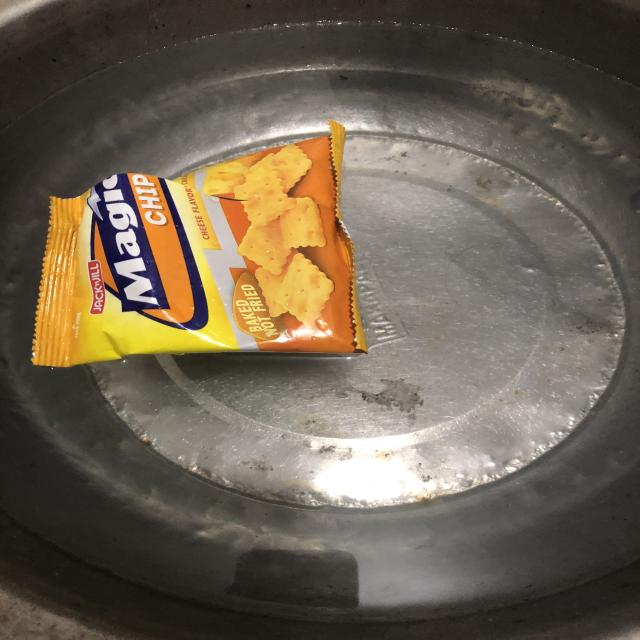Plastic Wrapper: (32, 121, 367, 367)
